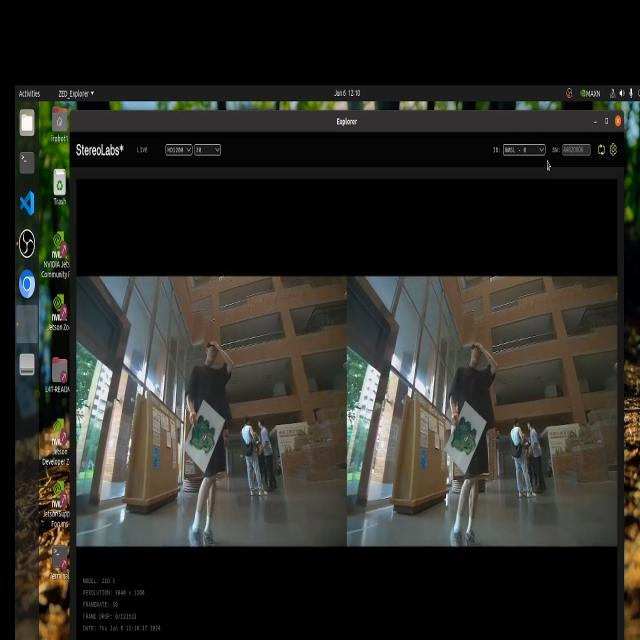green: (445, 413, 482, 458), (192, 410, 214, 456)
